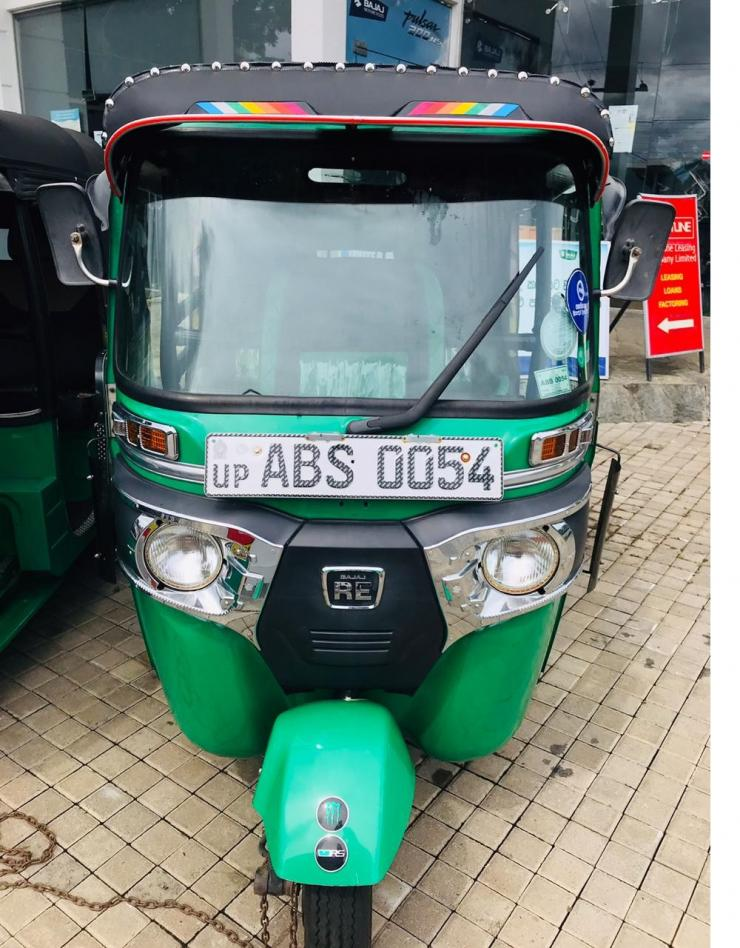threewheel: (39, 61, 676, 948)
